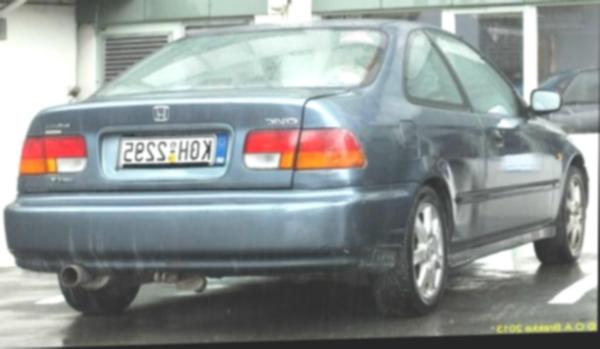License_Plate: (111, 130, 225, 172)
